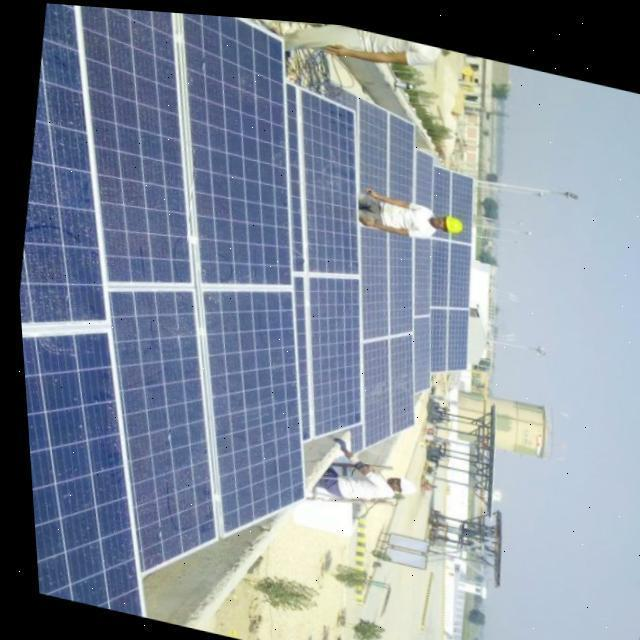Surface Contaminant: (84, 5, 210, 572), (186, 11, 299, 530), (18, 331, 134, 615), (15, 3, 102, 323), (287, 79, 357, 437), (346, 221, 411, 450), (359, 95, 414, 197), (411, 232, 429, 387), (414, 144, 432, 203)
